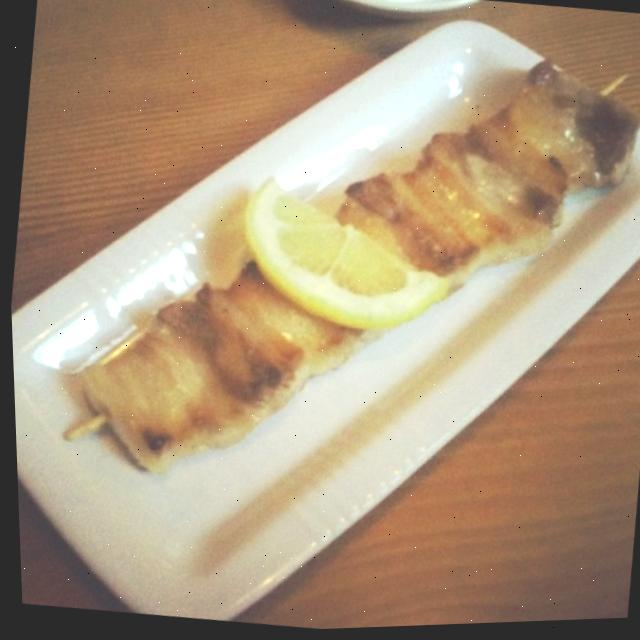牛肉菜式: (11, 0, 640, 602)
